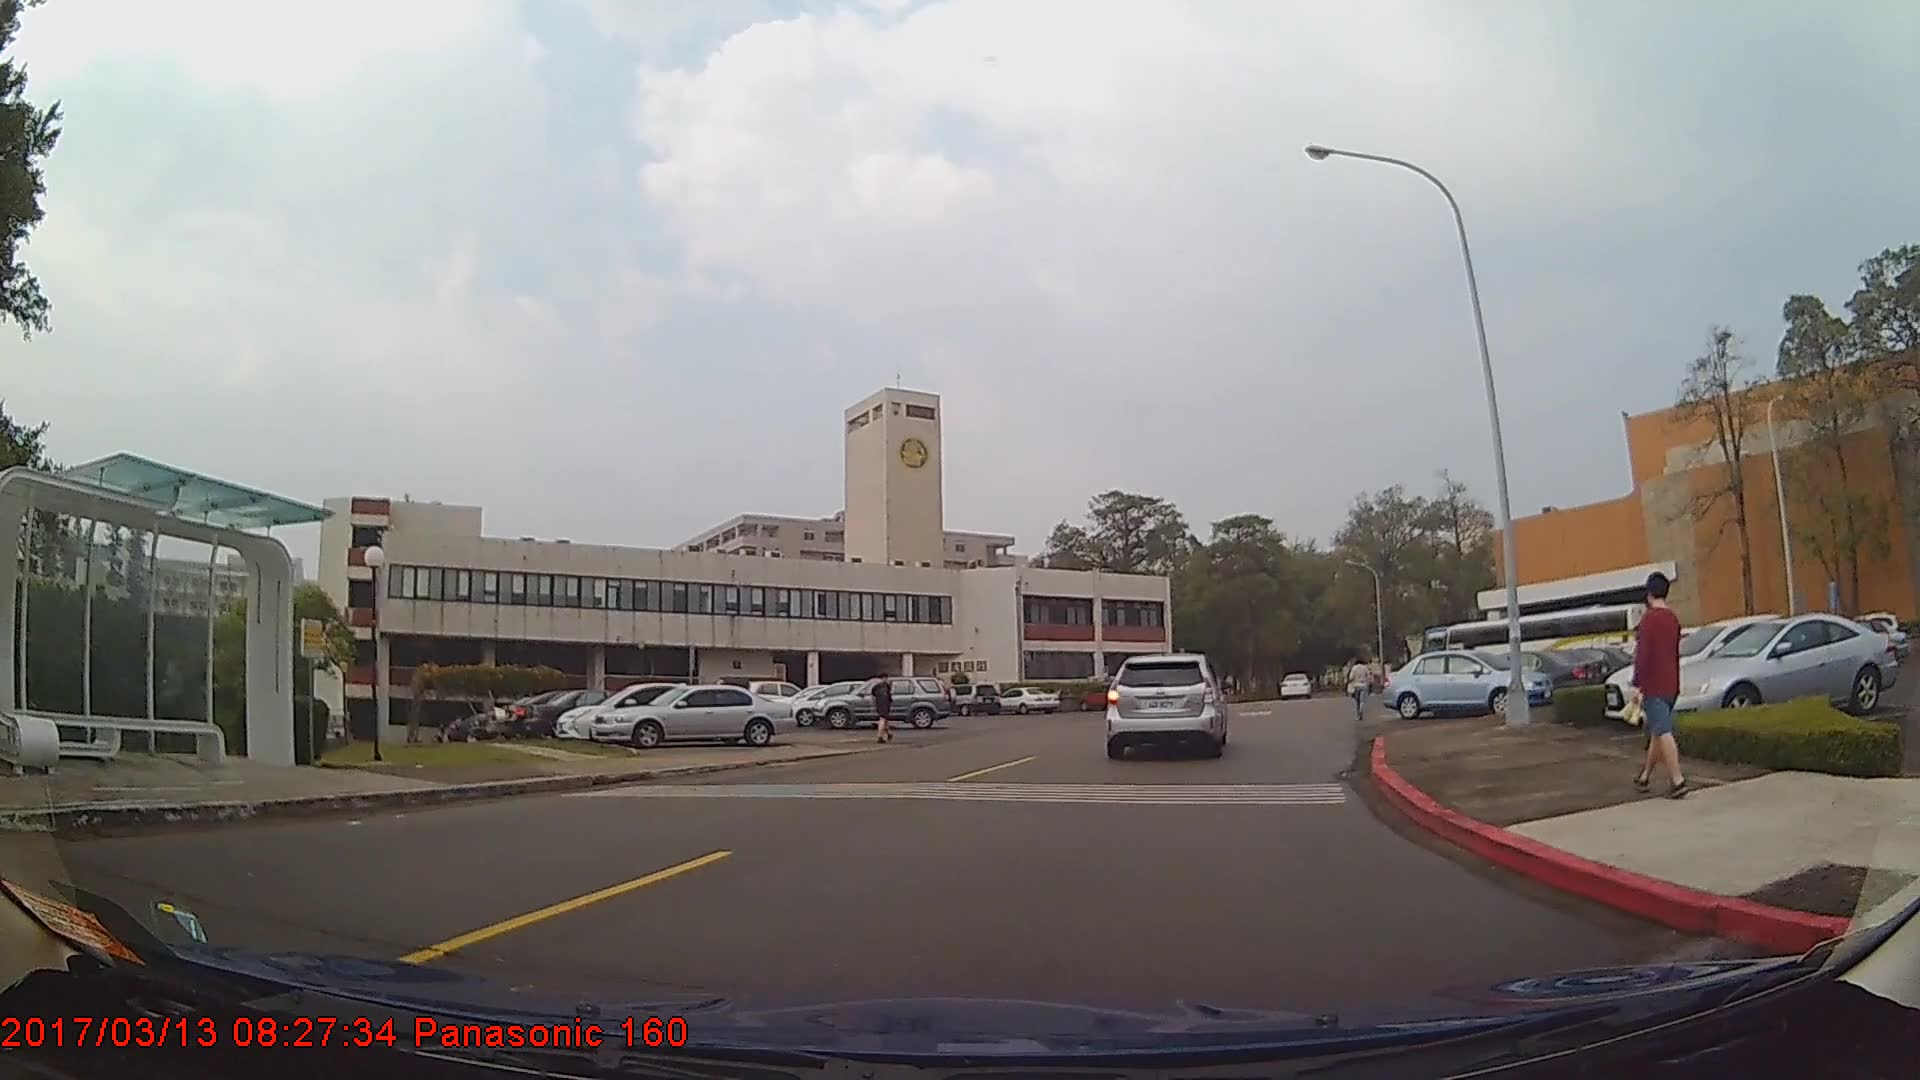pedestrian: (1632, 569, 1687, 798), (1347, 660, 1375, 727), (871, 673, 896, 747)
vehicle: (1601, 609, 1853, 719), (1661, 612, 1898, 725), (589, 682, 795, 747), (1376, 647, 1556, 720), (1107, 651, 1226, 760), (553, 683, 756, 744), (1444, 647, 1604, 699), (522, 687, 669, 740), (813, 676, 953, 729), (936, 683, 1001, 718), (993, 686, 1061, 717), (1278, 670, 1310, 699)
